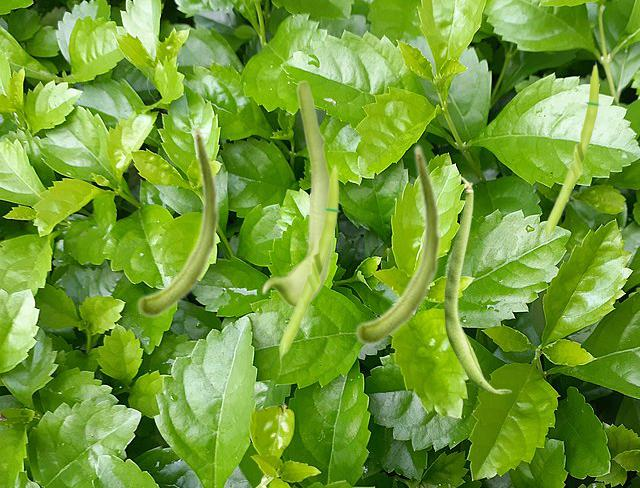french_bean: (354, 143, 441, 345), (261, 79, 333, 306), (136, 124, 219, 317), (444, 176, 511, 393), (276, 162, 340, 379), (542, 60, 600, 258)
